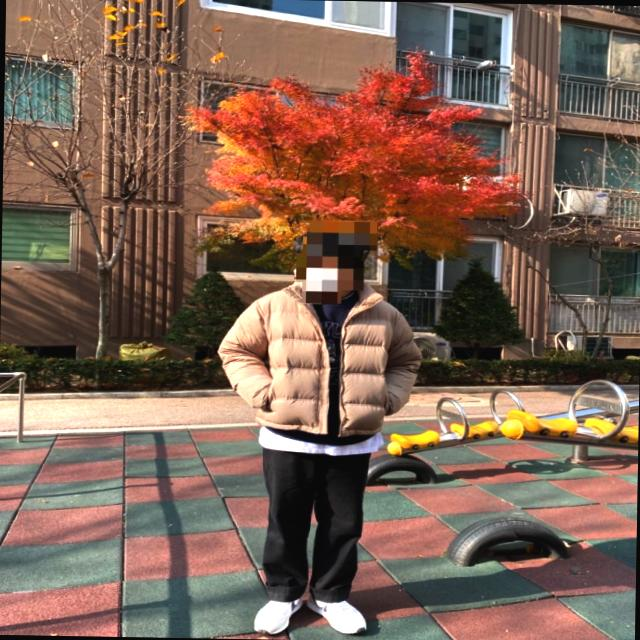denimpants: (262, 444, 368, 602)
padding: (220, 275, 418, 437)
